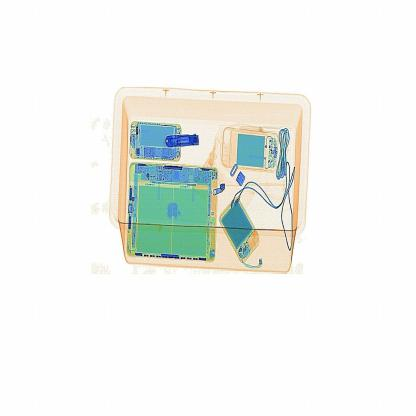knife: (160, 129, 209, 160)
